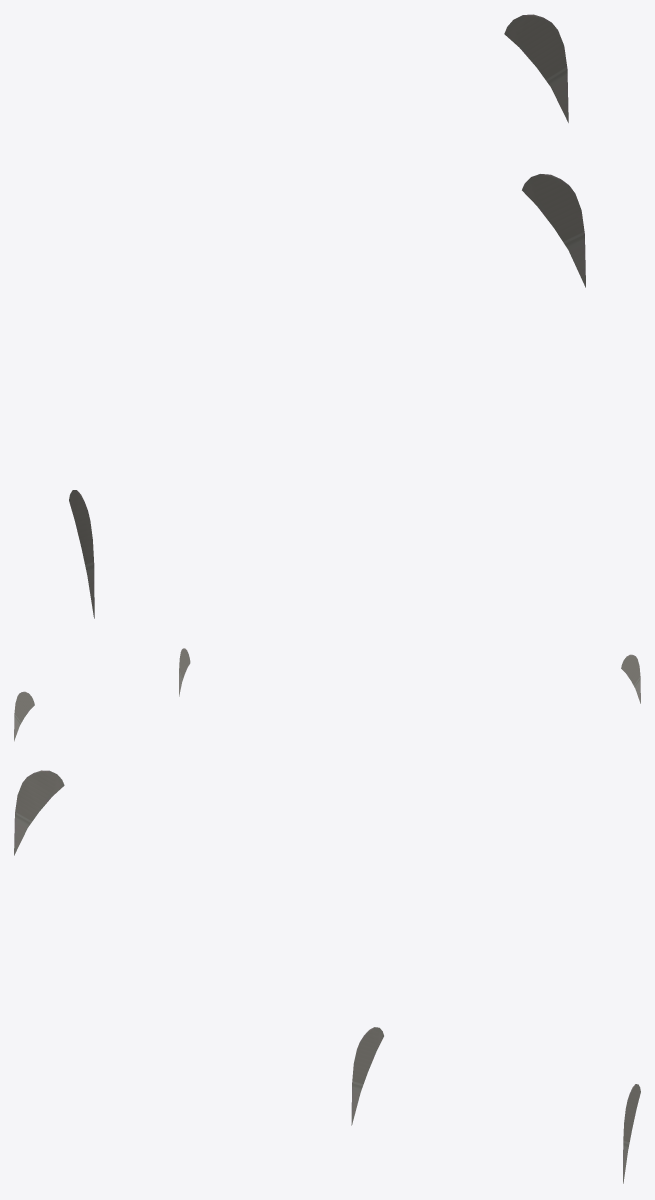
Rendered from pref_sm_4v4beachtech_bk_WSJ_topblock_L01d_lv0.fbx.
3 views of the same model, one above another, from view 1: azimuth 30°, elevation 25°; view 2: azimuth 150°, elevation 25°; view 3: azimuth 270°, elevation 25° (orthographic). The views are drawn at different scales.
Parts seen in each view (by area): view 1: pref_sm_4v4beachtech_bk_WSJ_topblock_L01d_lv0; view 2: pref_sm_4v4beachtech_bk_WSJ_topblock_L01d_lv0; view 3: pref_sm_4v4beachtech_bk_WSJ_topblock_L01d_lv0.
Part boxes in pixels (x1,y1,x2,y2): pref_sm_4v4beachtech_bk_WSJ_topblock_L01d_lv0: [69, 14, 585, 618]; pref_sm_4v4beachtech_bk_WSJ_topblock_L01d_lv0: [14, 648, 640, 741]; pref_sm_4v4beachtech_bk_WSJ_topblock_L01d_lv0: [14, 770, 640, 1183].
Bounding box in the file's own units: 28.04 × 3.46 × 22.55.
1 material, 1 textured.
